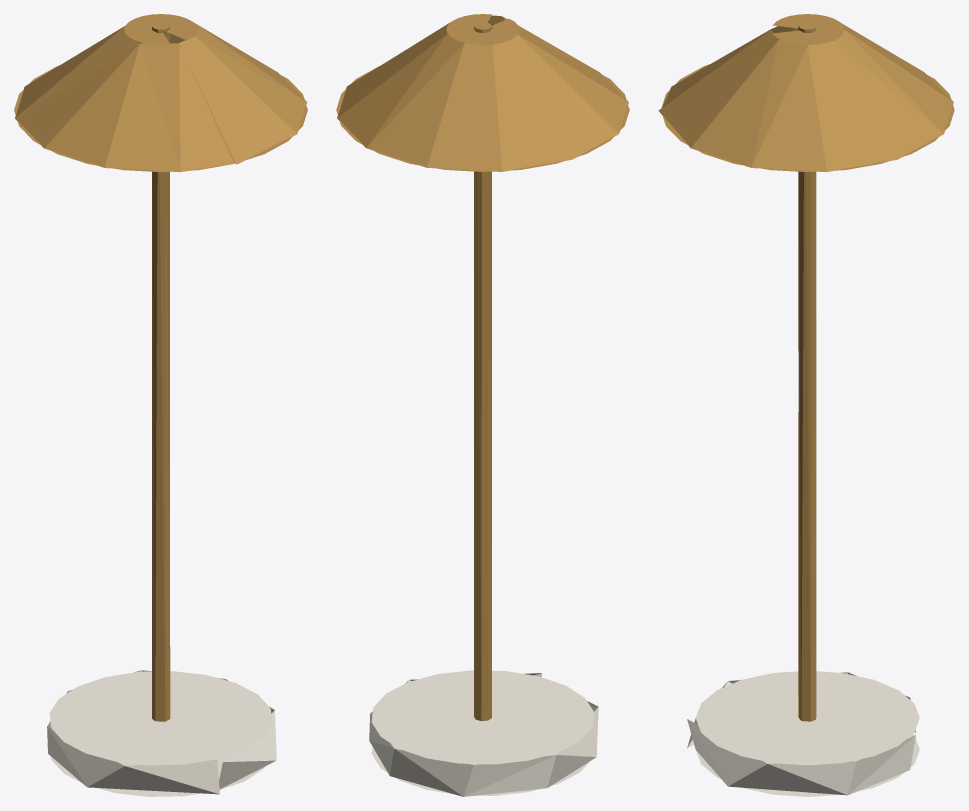
The model's file is better.glb.
3 views of the same model, side by side, from view 1: azimuth 30°, elevation 25°; view 2: azimuth 150°, elevation 25°; view 3: azimuth 270°, elevation 25° (orthographic).
Parts seen in each view (by area): view 1: Native component 1, Native component 0; view 2: Native component 1, Native component 0; view 3: Native component 1, Native component 0.
Part boxes in pixels (bbox=[...]): Native component 1: bbox=[14, 14, 307, 721]; Native component 0: bbox=[47, 670, 276, 796]; Native component 1: bbox=[336, 14, 629, 721]; Native component 0: bbox=[369, 670, 598, 796]; Native component 1: bbox=[658, 14, 954, 721]; Native component 0: bbox=[687, 671, 919, 796].
Bounding box in the file's own units: 0.76 × 2.06 × 0.7666.
